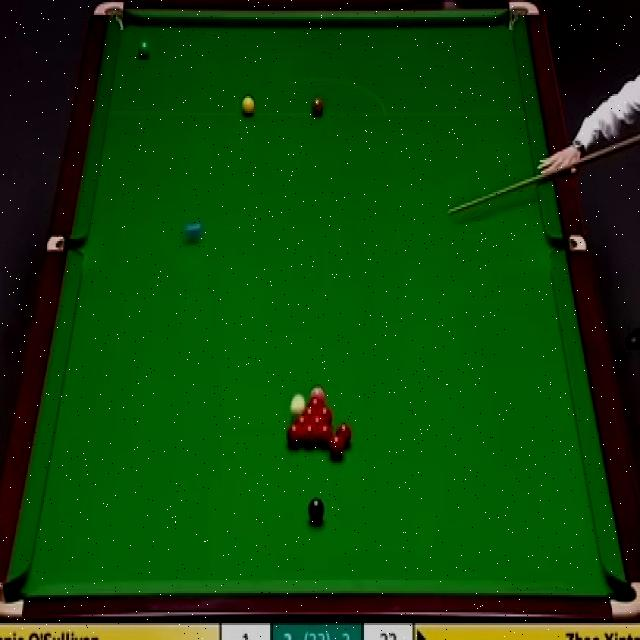black-ball: (308, 498, 324, 527)
blue-ball: (183, 221, 200, 247)
brown-ball: (310, 94, 324, 118)
green-ball: (136, 39, 151, 60)
pink-ball: (310, 384, 325, 400)
red-ball: (328, 433, 345, 459), (337, 422, 353, 449), (317, 423, 332, 449), (287, 424, 301, 449), (302, 423, 316, 448), (318, 406, 334, 422), (302, 404, 320, 416), (309, 414, 327, 424), (294, 413, 310, 424), (308, 398, 325, 408)
white-ball: (289, 390, 305, 418)
yellow-ball: (241, 93, 256, 118)
